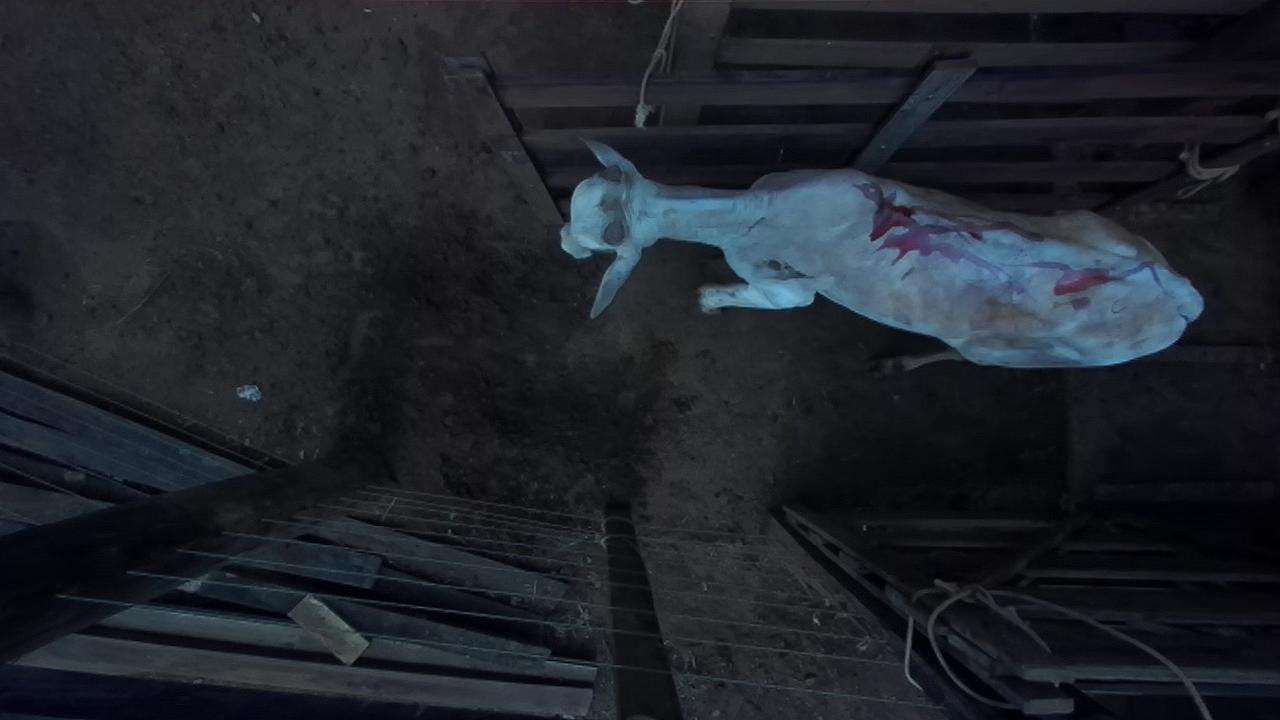cattle: (558, 134, 1205, 374)
